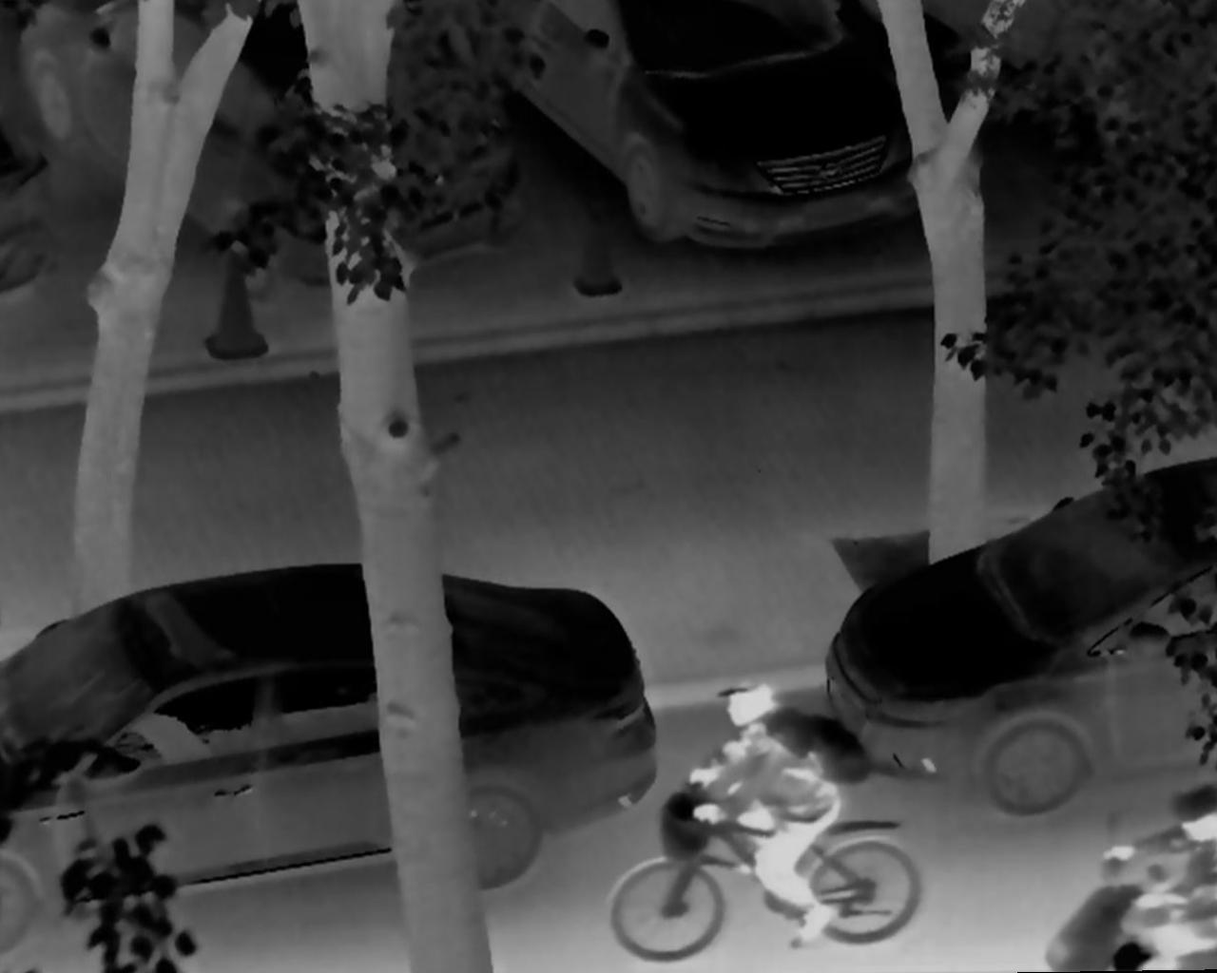person: (669, 671, 858, 953), (1098, 768, 1217, 973)
